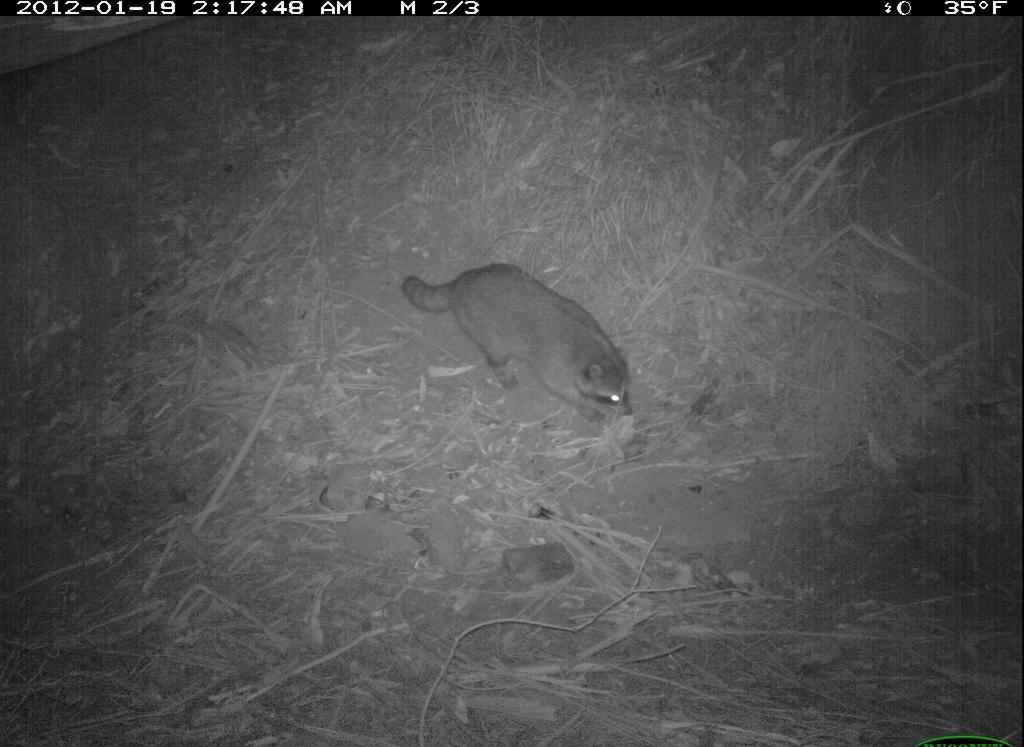raccoon: (392, 257, 653, 429)
